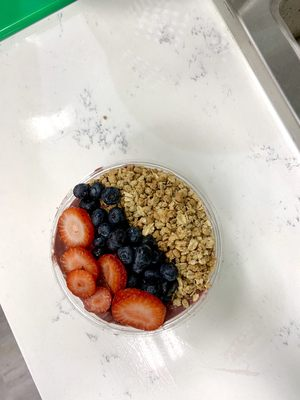sushi: (49, 161, 223, 334)
